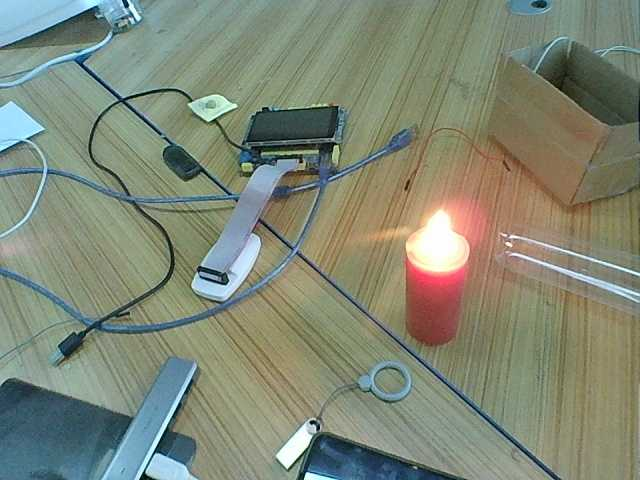candle: (406, 269, 466, 343)
fire: (409, 206, 467, 268)
